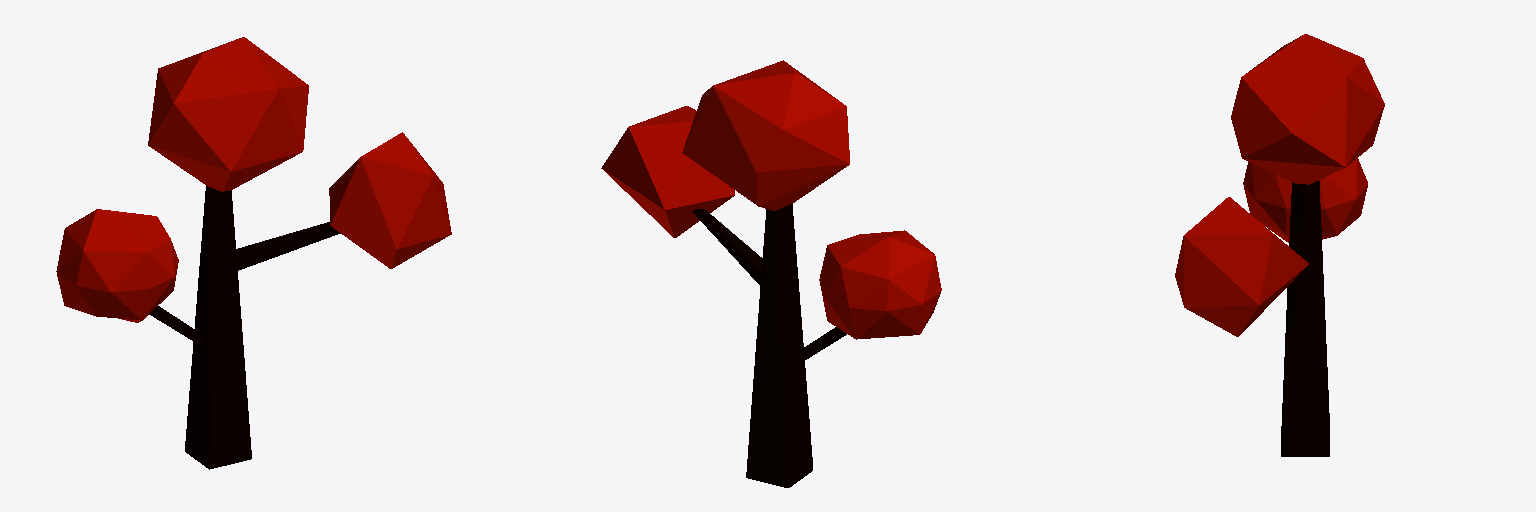
The model's file is autumntree_4.obj.
3 renders of one model, left to right at view 1: azimuth 30°, elevation 25°; view 2: azimuth 150°, elevation 25°; view 3: azimuth 270°, elevation 25°, orthographic.
Visible parts, largest first — view 1: Cube_Cube.002; view 2: Cube_Cube.002; view 3: Cube_Cube.002.
Boxes of the visible parts, <box> form: Cube_Cube.002: <box>56,37,451,469</box>; Cube_Cube.002: <box>601,60,941,487</box>; Cube_Cube.002: <box>1175,34,1384,456</box>.
Size of the model in its own units: 2.29 by 2.51 by 1.18.